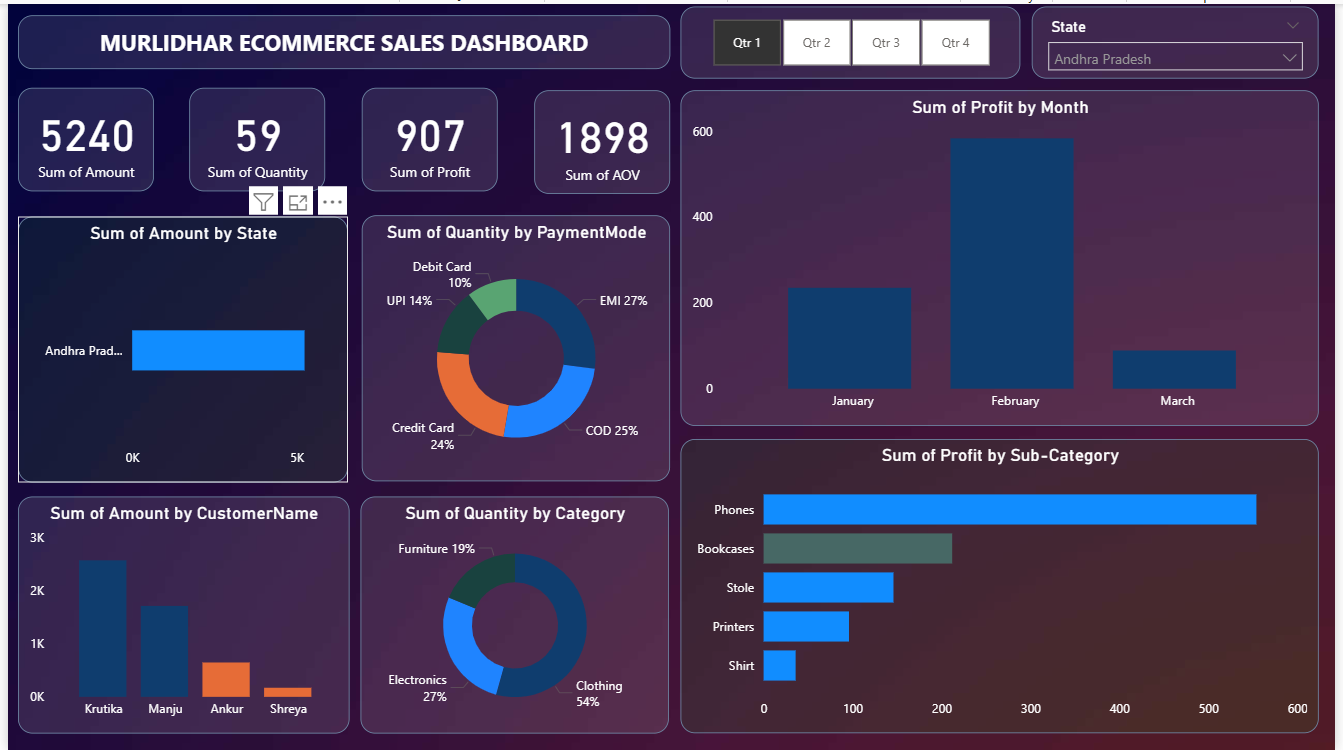

This screenshot's page, from the dashboard's own definition file:
{"tool":"powerbi","page":{"name":"Page 1","canvas":[1280,720],"ordinal":0},"visuals":[{"type":"textbox","box":[9.6,11,629.8,52.1],"z":0},{"type":"columnChart","fields":{"Y":["Details.Profit"],"Category":["Orders.Order Date.Variation.Date Hierarchy.Month"]},"box":[649.1,83.7,616.1,323.8],"z":1000},{"type":"barChart","fields":{"Y":["Details.Profit"],"Category":["Details.Sub-Category"]},"box":[649.1,419.9,616.1,284],"z":2000},{"type":"donutChart","fields":{"Category":["Details.Category"],"Y":["Details.Quantity"]},"box":[340.3,474.8,297.8,229.2],"z":3000},{"type":"donutChart","fields":{"Category":["Details.PaymentMode"],"Y":["Details.Quantity"]},"box":[341.7,204.5,297.8,256.6],"z":4000},{"type":"card","fields":{"Values":["Details.Quantity"]},"box":[174.9,80.8,131.5,100.1],"z":5000},{"type":"card","fields":{"Values":["Details.Amount"]},"box":[9.7,80.8,131.5,100.1],"z":6000},{"type":"card","fields":{"Values":["Details.Profit"]},"box":[341.4,80.8,131.5,100.1],"z":7000},{"type":"card","fields":{"Values":["Details.AOV"]},"box":[507.9,83.2,131.5,100.1],"z":8000},{"type":"barChart","fields":{"Category":["Orders.State"],"Y":["Details.Amount"]},"box":[9.7,205.1,318.5,257],"z":9000},{"type":"columnChart","fields":{"Y":["Details.Amount"],"Category":["Orders.CustomerName"]},"box":[9.6,474.8,319.7,229.2],"z":10000},{"type":"slicer","fields":{"Values":["Orders.Order Date.Variation.Date Hierarchy.Quarter"]},"box":[649.1,2.7,328,70],"z":11000},{"type":"slicer","fields":{"Values":["Orders.State"]},"box":[988,2.7,277.2,70],"z":12000}]}

Visuals, with their boxes in screenshot pixels (x1, y1, x2, y2), scaled from the page's 1280x720 canvas onto the 1343x750 screenshot:
textbox: bbox(10, 11, 671, 66)
columnChart - Details.Profit x Orders.Order Date.Variation.Date Hierarchy.Month: bbox(681, 87, 1327, 424)
barChart - Details.Profit x Details.Sub-Category: bbox(681, 437, 1327, 733)
donutChart - Details.Category x Details.Quantity: bbox(357, 495, 670, 733)
donutChart - Details.PaymentMode x Details.Quantity: bbox(359, 213, 671, 480)
card - Details.Quantity: bbox(184, 84, 321, 188)
card - Details.Amount: bbox(10, 84, 148, 188)
card - Details.Profit: bbox(358, 84, 496, 188)
card - Details.AOV: bbox(533, 87, 671, 191)
barChart - Orders.State x Details.Amount: bbox(10, 214, 344, 481)
columnChart - Details.Amount x Orders.CustomerName: bbox(10, 495, 346, 733)
slicer - Orders.Order Date.Variation.Date Hierarchy.Quarter: bbox(681, 3, 1025, 76)
slicer - Orders.State: bbox(1037, 3, 1327, 76)
